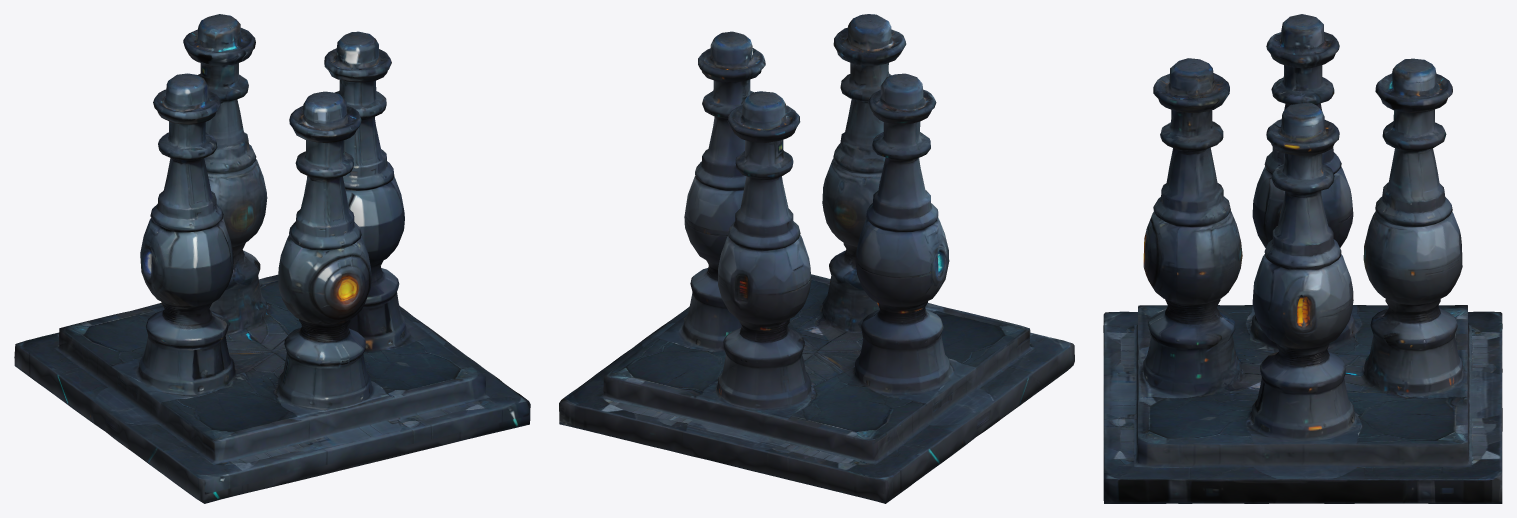
Rendered from A_low_poly_sci_fi_gen_0127175930_texture.fbx.
3 renders of one model, left to right at view 1: azimuth 30°, elevation 25°; view 2: azimuth 150°, elevation 25°; view 3: azimuth 270°, elevation 25°, orthographic. The views are drawn at different scales.
Parts seen in each view (by area): view 1: Mesh1_Mesh1.011; view 2: Mesh1_Mesh1.011; view 3: Mesh1_Mesh1.011.
Boxes of the visible parts, x1,y1,x2,y2 form: Mesh1_Mesh1.011: (14, 14, 530, 503); Mesh1_Mesh1.011: (559, 14, 1074, 503); Mesh1_Mesh1.011: (1103, 14, 1502, 503).
Size of the model in its own units: 200 by 197 by 200.
Materials: 1 (1 with a texture image).
